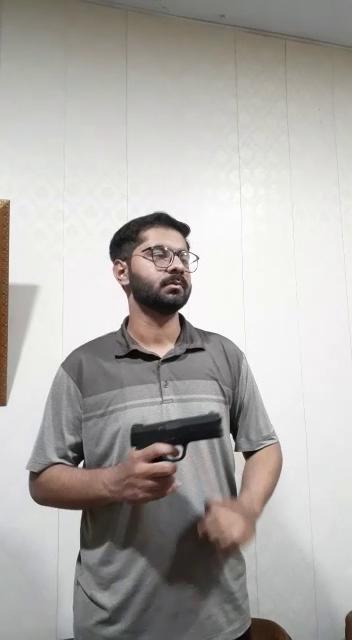criminal: (22, 205, 289, 640)
weapon: (124, 409, 227, 472)
